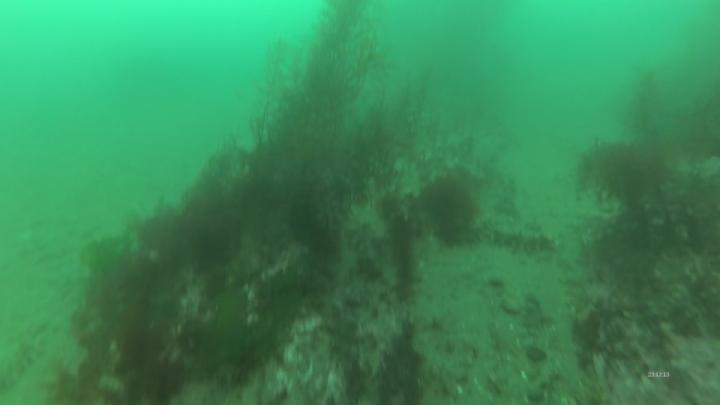holothurian: (482, 219, 557, 259)
waterweeds: (81, 5, 420, 405), (578, 50, 720, 367)
